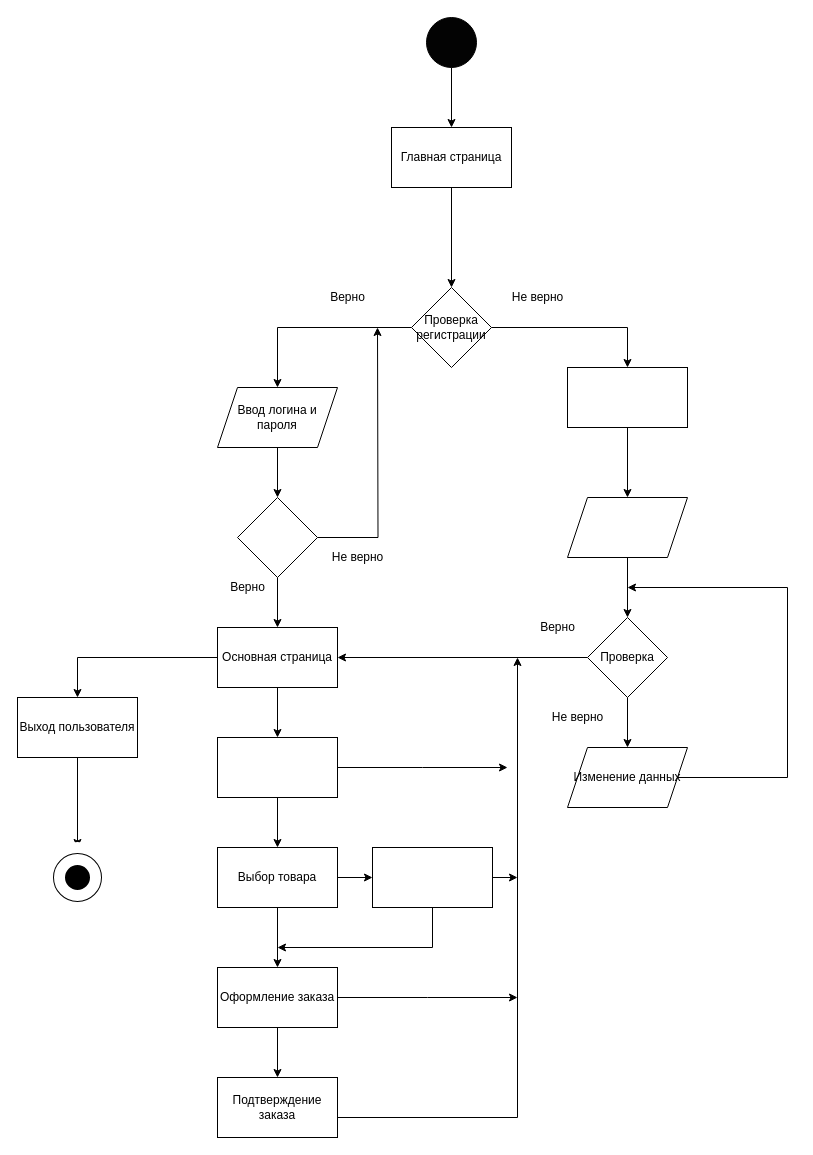
Image size: 813x1155. Some labels were removed from this diagram. The centre of each missing label's shape, as x and y in pixels:
Заполнение регистрационных форм: point (627, 527)
Каталог: point (277, 767)
Корзина: point (432, 877)
Окно регистрации: point (627, 397)
Проверка на правильность: point (277, 537)
